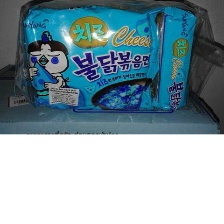snack: (17, 1, 203, 118)
